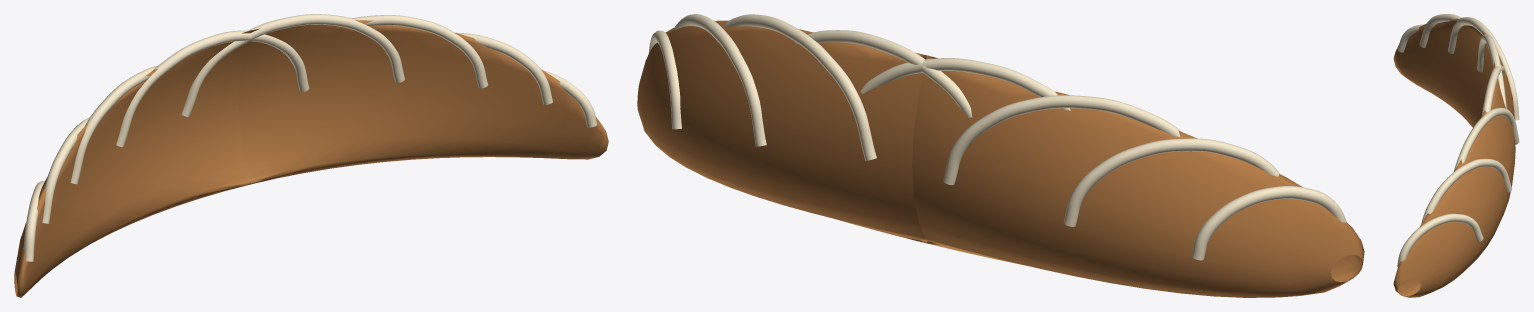
The model's file is sku_v24_croissant.glb.
3 views of the same model, side by side, from view 1: azimuth 30°, elevation 25°; view 2: azimuth 150°, elevation 25°; view 3: azimuth 270°, elevation 25° (orthographic). The views are drawn at different scales.
Parts seen in each view (by area): view 1: sku_v24_croissant_V24_golden_crust, sku_v24_croissant_V24_cream; view 2: sku_v24_croissant_V24_golden_crust, sku_v24_croissant_V24_cream; view 3: sku_v24_croissant_V24_golden_crust, sku_v24_croissant_V24_cream.
Part boxes in pixels (x1,y1,x2,y2): sku_v24_croissant_V24_golden_crust: [14, 20, 608, 297]; sku_v24_croissant_V24_cream: [23, 14, 597, 261]; sku_v24_croissant_V24_golden_crust: [637, 20, 1364, 297]; sku_v24_croissant_V24_cream: [648, 14, 1346, 260]; sku_v24_croissant_V24_golden_crust: [1393, 18, 1515, 297]; sku_v24_croissant_V24_cream: [1397, 14, 1519, 266].
Size of the model in its own units: 0.1676 by 0.0452 by 0.0395.
